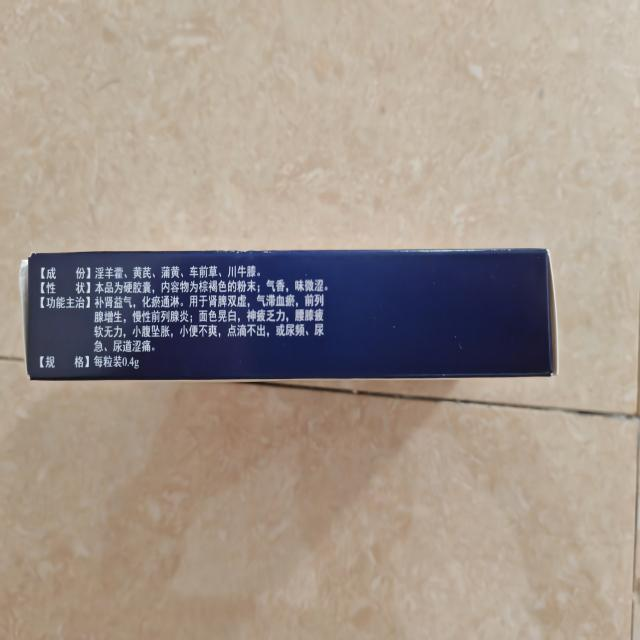box: (14, 240, 563, 388)
